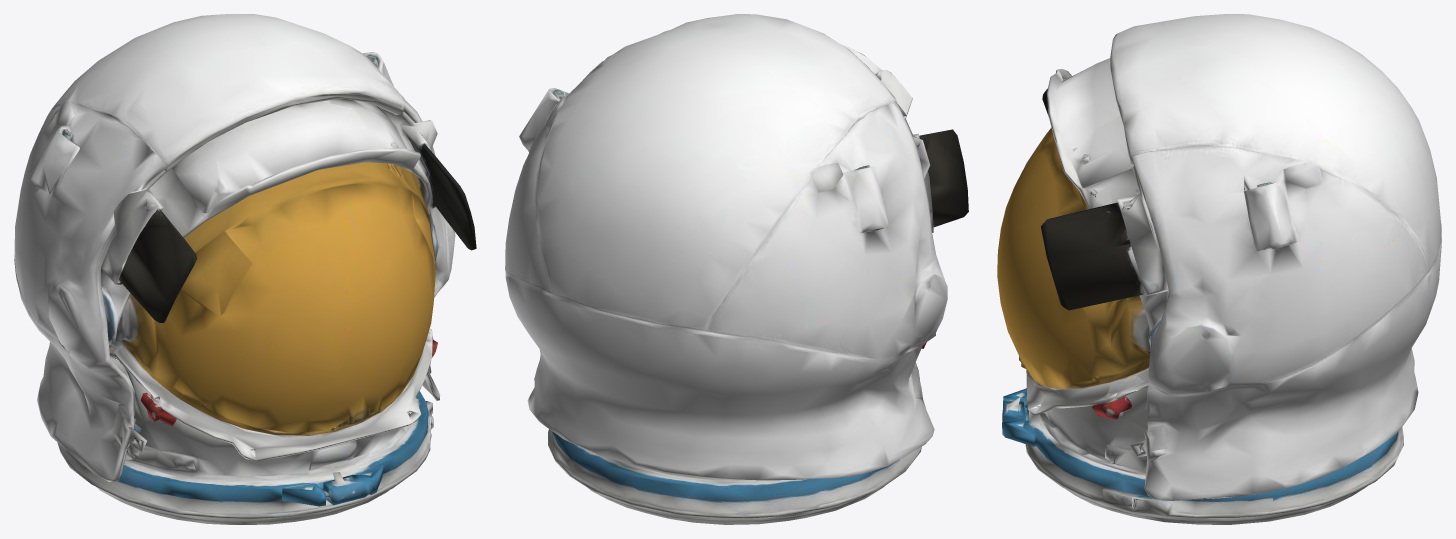
File: helmet_apollo.glb
3 views of the same model, side by side, from view 1: azimuth 30°, elevation 25°; view 2: azimuth 150°, elevation 25°; view 3: azimuth 270°, elevation 25° (orthographic).
Visible parts, largest first — view 1: tripo_node_7aa375f5-9e0c-426e-b9a4-28a1e2f9114e; view 2: tripo_node_7aa375f5-9e0c-426e-b9a4-28a1e2f9114e; view 3: tripo_node_7aa375f5-9e0c-426e-b9a4-28a1e2f9114e.
Part boxes in pixels (bbox=[...]): tripo_node_7aa375f5-9e0c-426e-b9a4-28a1e2f9114e: bbox=[14, 14, 476, 524]; tripo_node_7aa375f5-9e0c-426e-b9a4-28a1e2f9114e: bbox=[505, 14, 968, 524]; tripo_node_7aa375f5-9e0c-426e-b9a4-28a1e2f9114e: bbox=[997, 14, 1441, 524].
Bounding box in the file's own units: 0.3825 × 0.4 × 0.3843.
1 material, 1 textured.
